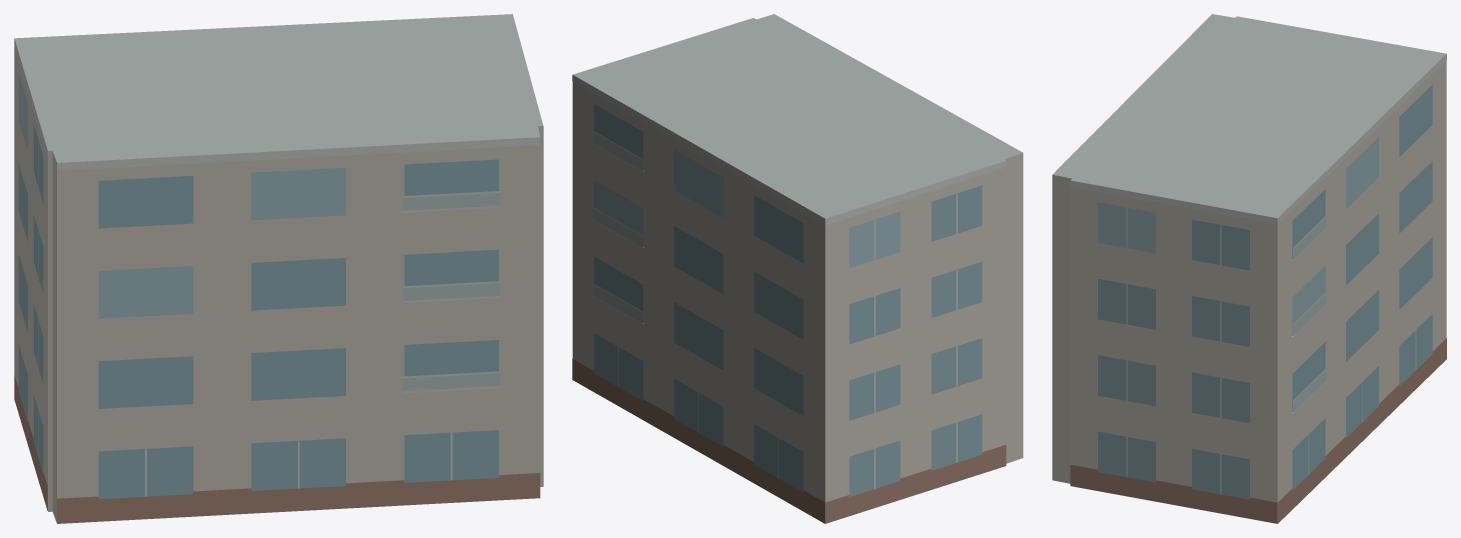
The model's file is survey-upis-32817293.glb.
3 views of the same model, side by side, from view 1: azimuth 30°, elevation 25°; view 2: azimuth 150°, elevation 25°; view 3: azimuth 270°, elevation 25° (orthographic). The views are drawn at different scales.
Visible parts, largest first — view 1: survey-upis-32817293.tmp; view 2: survey-upis-32817293.tmp; view 3: survey-upis-32817293.tmp.
Part boxes in pixels (<box>): survey-upis-32817293.tmp: <box>14,14,543,523</box>; survey-upis-32817293.tmp: <box>572,14,1023,523</box>; survey-upis-32817293.tmp: <box>1052,14,1446,523</box>.
Bounding box in the file's own units: 15.92 × 11.1 × 13.
